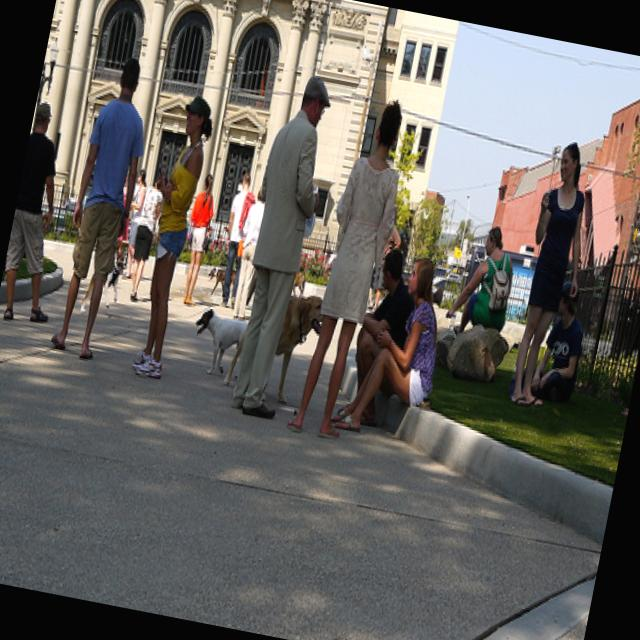Vehicle: (428, 276, 462, 306), (432, 266, 453, 284)
